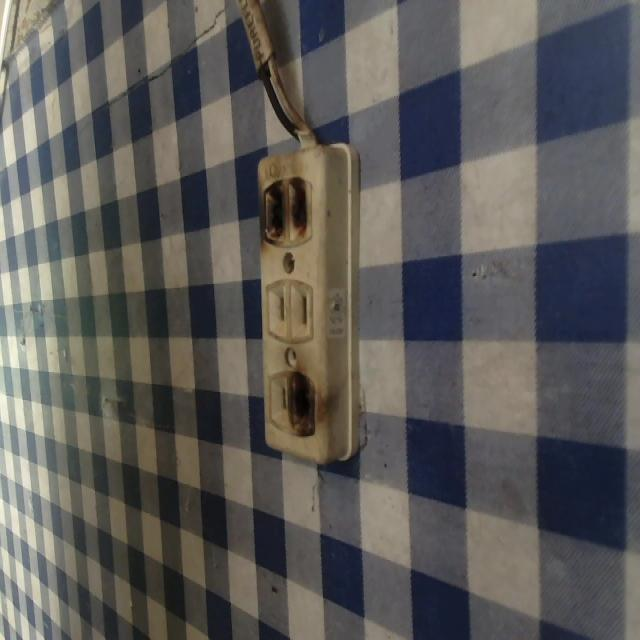-: (257, 173, 319, 252), (281, 365, 320, 440)
